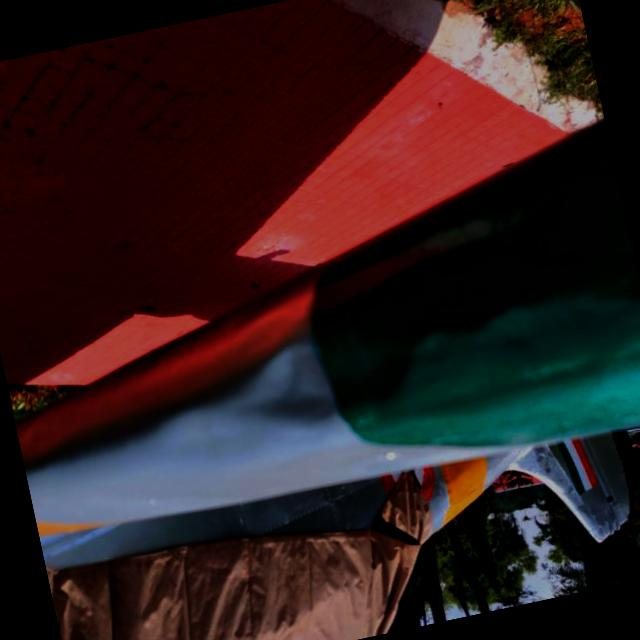dent: (197, 284, 448, 463)
